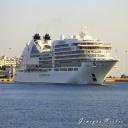cruises: (14, 27, 121, 88)
